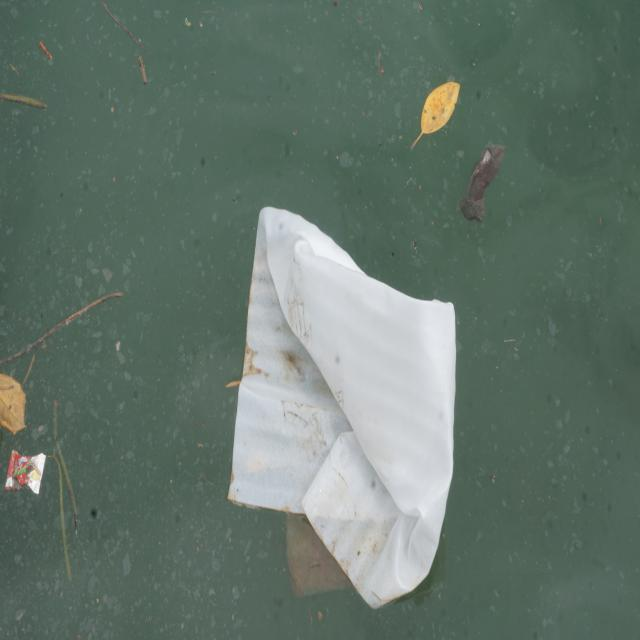Bungkus Makanan: (4, 449, 51, 503)
